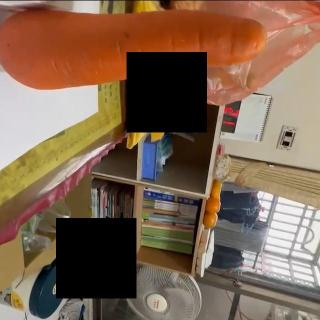carrot: (0, 10, 267, 92)
